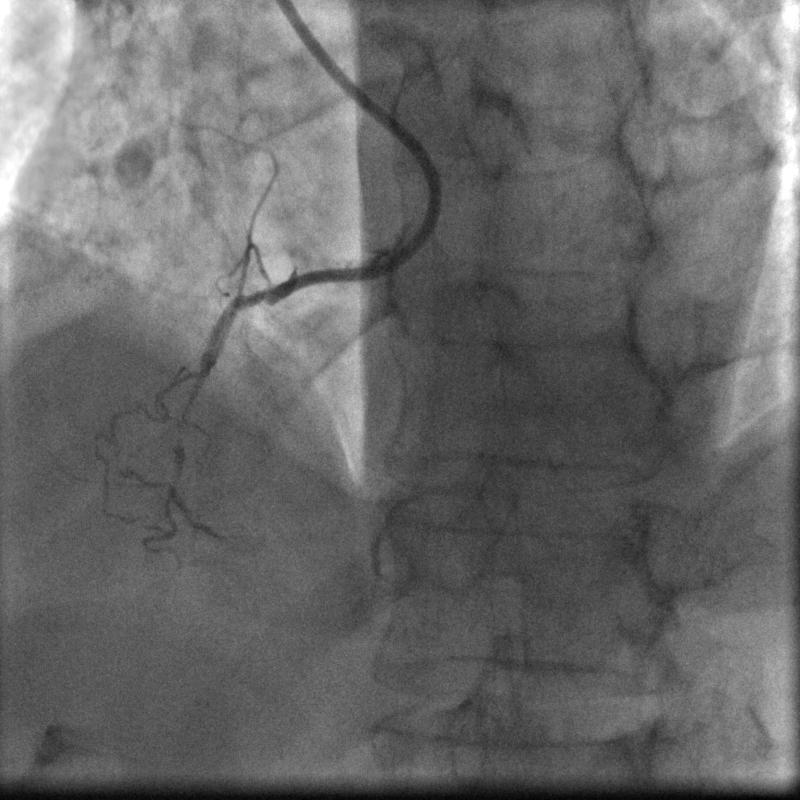Stenosis: (185, 350, 218, 414)
